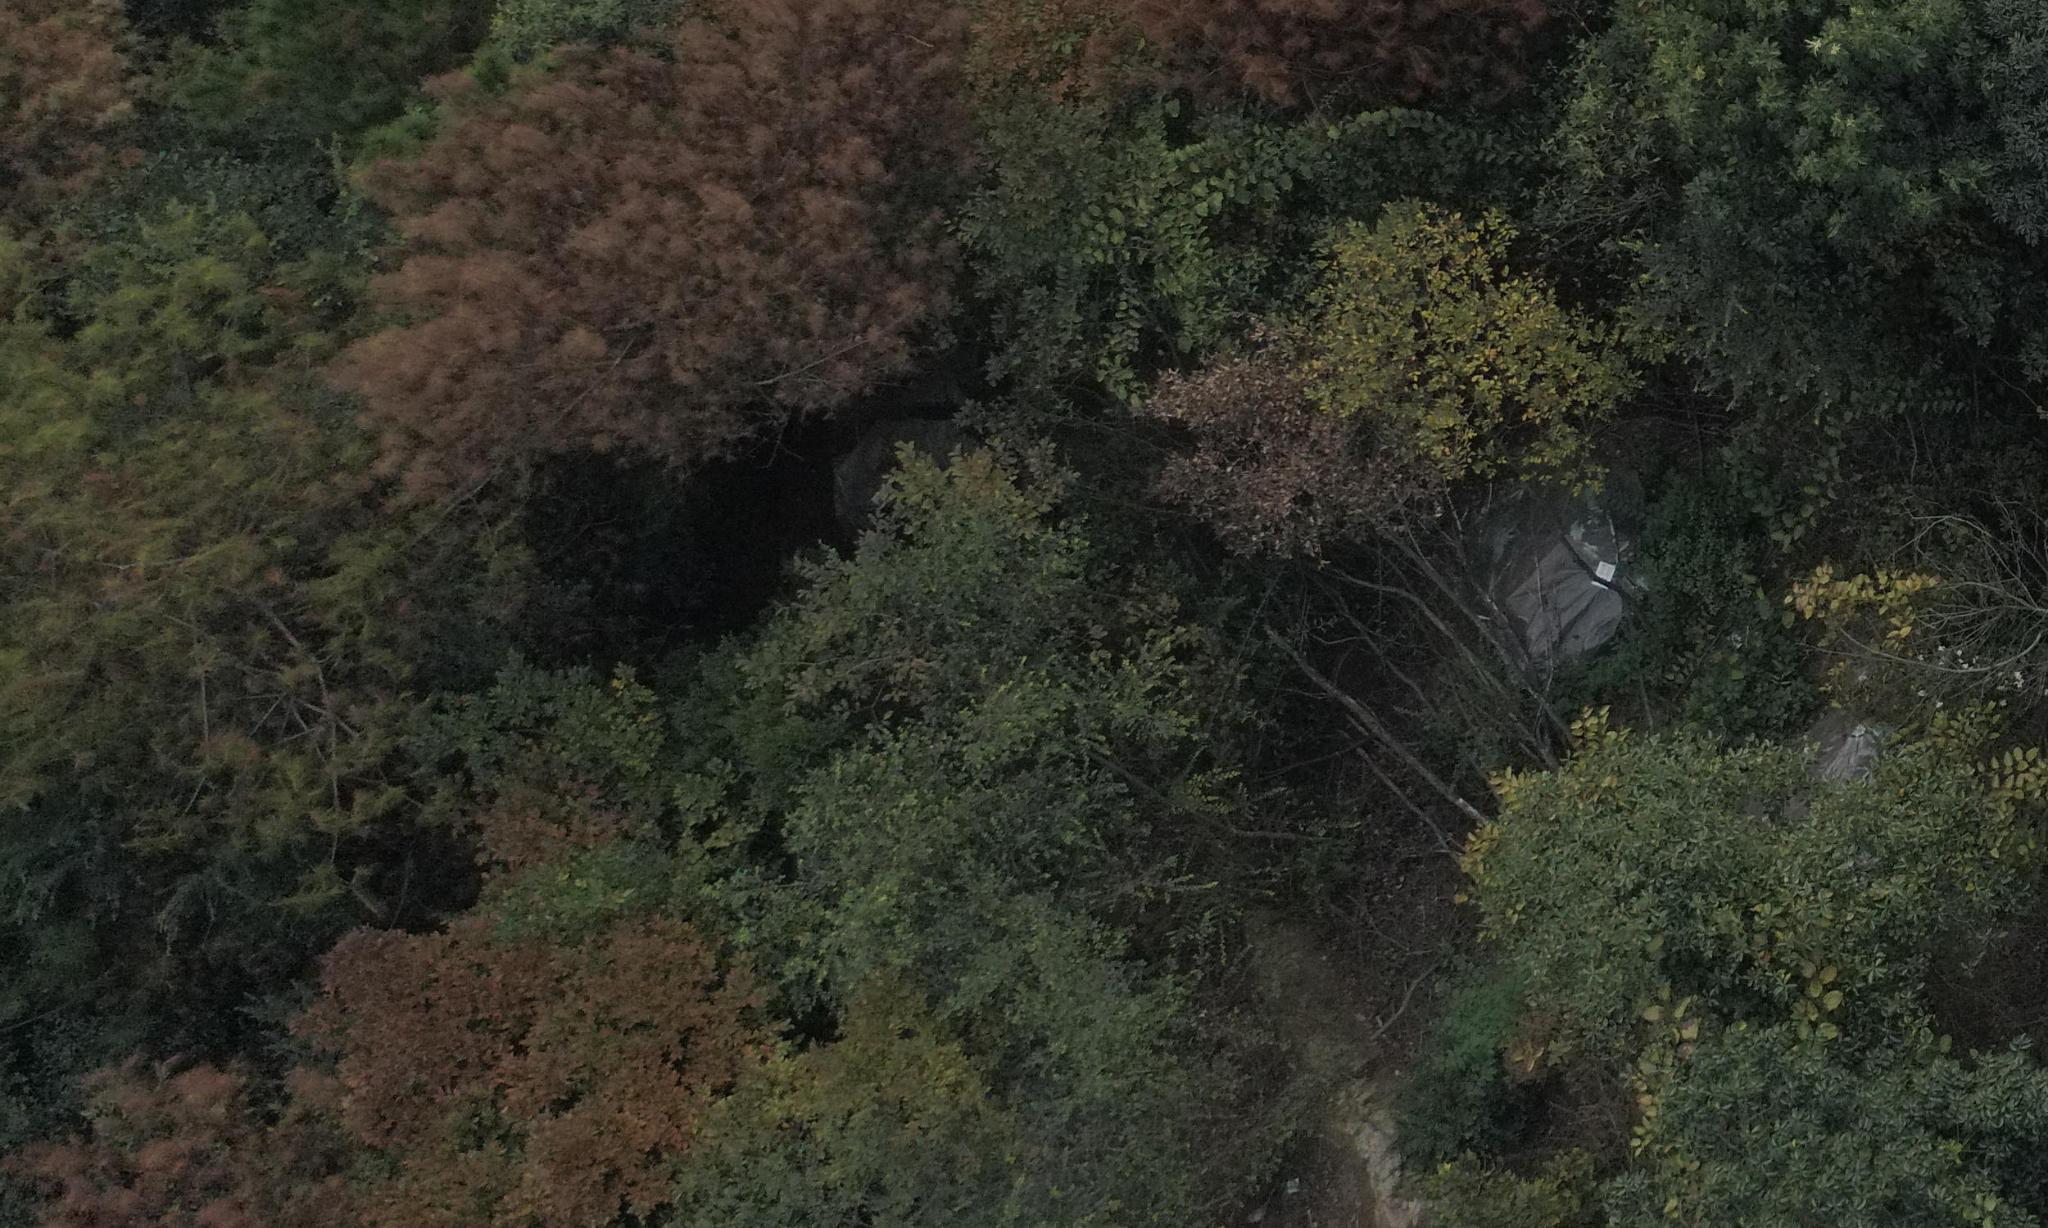heavy: (346, 10, 962, 469), (16, 1063, 316, 1218), (1136, 6, 1542, 92)
light: (9, 15, 156, 247)
